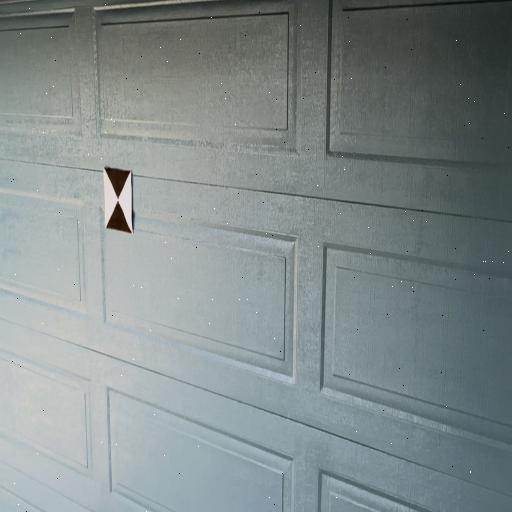target: (103, 166, 134, 232)
